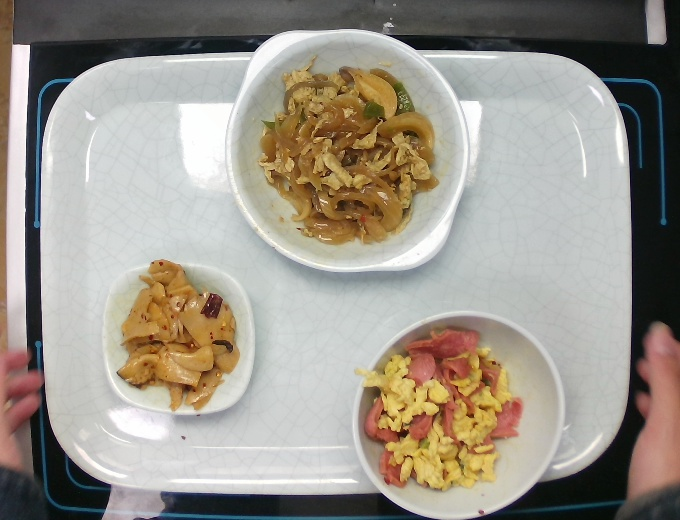JYsf-Fan_Wan: (348, 308, 569, 515)
JYsf-Shuang_Er_Wan: (225, 23, 475, 283)
JYsf-Si_Fang_Die: (86, 247, 263, 421)
